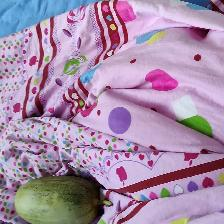gua: (13, 181, 102, 219)
